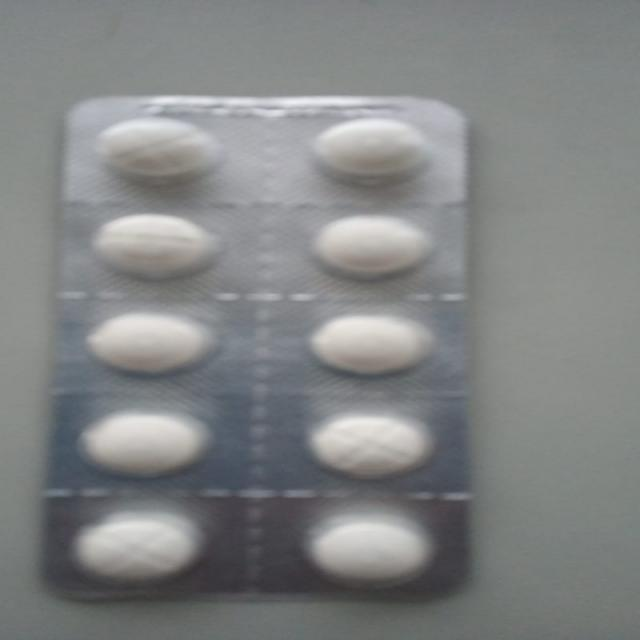Pill: (291, 501, 445, 591), (51, 504, 205, 592), (69, 202, 224, 286), (288, 113, 451, 191), (293, 308, 440, 388), (59, 401, 205, 480), (72, 309, 227, 383), (80, 109, 224, 188), (291, 206, 437, 282), (293, 405, 435, 480)
